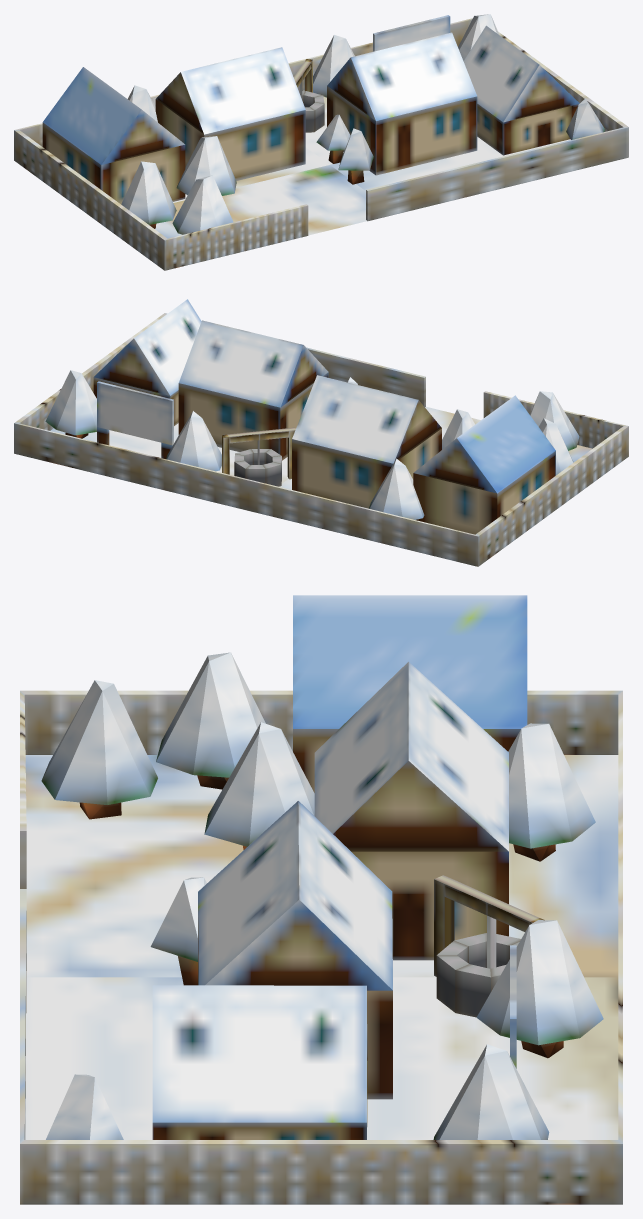
The model's file is Poly_World_Map_Town_House_05_Snow.obj.
3 views of the same model, one above another, from view 1: azimuth 30°, elevation 25°; view 2: azimuth 150°, elevation 25°; view 3: azimuth 270°, elevation 25° (orthographic). The views are drawn at different scales.
Visible parts, largest first — view 1: Grid, Cube.002_Cube.002, Cube.002_Cube.001, Cube.001_Cube.001, Cube.002_Cube.003, Plane, Cube_Cube.002, Cube_Cube.001_Cube_Cube.003, Cube.003_Cube.004, Cube.004_Cube.005; view 2: Grid, Cube.002_Cube.001, Cube.002_Cube.002, Cube.002_Cube.003, Cube.001_Cube.001, Cube_Cube.002, Cube_Cube.001_Cube_Cube.003, Plane, Cube.003_Cube.004, Cube.004_Cube.005; view 3: Plane, Cube.001_Cube.001, Grid, Cube.002_Cube.001, Cube_Cube.002, Cube.002_Cube.002, Cube.002_Cube.003, Cube.003_Cube.004, Cube.004_Cube.005, Cube_Cube.001_Cube_Cube.003.
Boxes of the visible parts, x1=… form: Grid: x1=14, y1=18, x2=628, y2=270; Cube.002_Cube.002: x1=327, y1=32, x2=477, y2=175; Cube.002_Cube.001: x1=155, y1=47, x2=305, y2=180; Cube.001_Cube.001: x1=121, y1=14, x2=604, y2=234; Cube.002_Cube.003: x1=42, y1=67, x2=185, y2=204; Plane: x1=155, y1=90, x2=570, y2=238; Cube_Cube.002: x1=463, y1=25, x2=579, y2=155; Cube_Cube.001_Cube_Cube.003: x1=373, y1=15, x2=450, y2=51; Cube.003_Cube.004: x1=302, y1=91, x2=324, y2=132; Cube.004_Cube.005: x1=293, y1=59, x2=312, y2=99; Grid: x1=14, y1=313, x2=628, y2=566; Cube.002_Cube.001: x1=292, y1=375, x2=441, y2=508; Cube.002_Cube.002: x1=178, y1=320, x2=328, y2=460; Cube.002_Cube.003: x1=413, y1=395, x2=555, y2=534; Cube.001_Cube.001: x1=45, y1=370, x2=579, y2=519; Cube_Cube.002: x1=93, y1=299, x2=201, y2=425; Cube_Cube.001_Cube_Cube.003: x1=97, y1=381, x2=173, y2=458; Plane: x1=50, y1=407, x2=592, y2=489; Cube.003_Cube.004: x1=234, y1=449, x2=281, y2=486; Cube.004_Cube.005: x1=222, y1=427, x2=295, y2=479; Plane: x1=25, y1=755, x2=618, y2=1139; Cube.001_Cube.001: x1=41, y1=652, x2=603, y2=1139; Grid: x1=20, y1=690, x2=622, y2=1204; Cube.002_Cube.001: x1=314, y1=661, x2=508, y2=960; Cube_Cube.002: x1=152, y1=985, x2=367, y2=1139; Cube.002_Cube.002: x1=198, y1=801, x2=392, y2=1099; Cube.002_Cube.003: x1=293, y1=595, x2=527, y2=792; Cube.003_Cube.004: x1=436, y1=933, x2=520, y2=1017; Cube.004_Cube.005: x1=434, y1=875, x2=544, y2=976; Cube_Cube.001_Cube_Cube.003: x1=510, y1=945, x2=516, y2=1068.
Bounding box in the file's own units: 1.6 × 0.331 × 0.9.
Materials: 1 (1 with a texture image).
